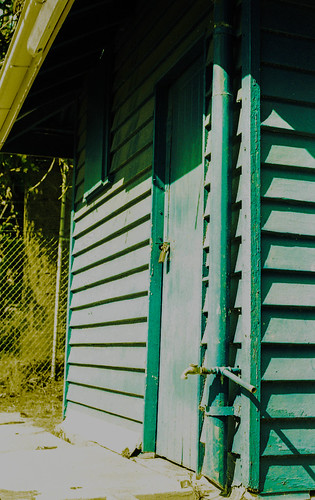building: (5, 1, 298, 483)
door: (144, 60, 233, 474)
